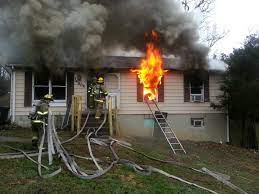smoke: (1, 1, 217, 68)
